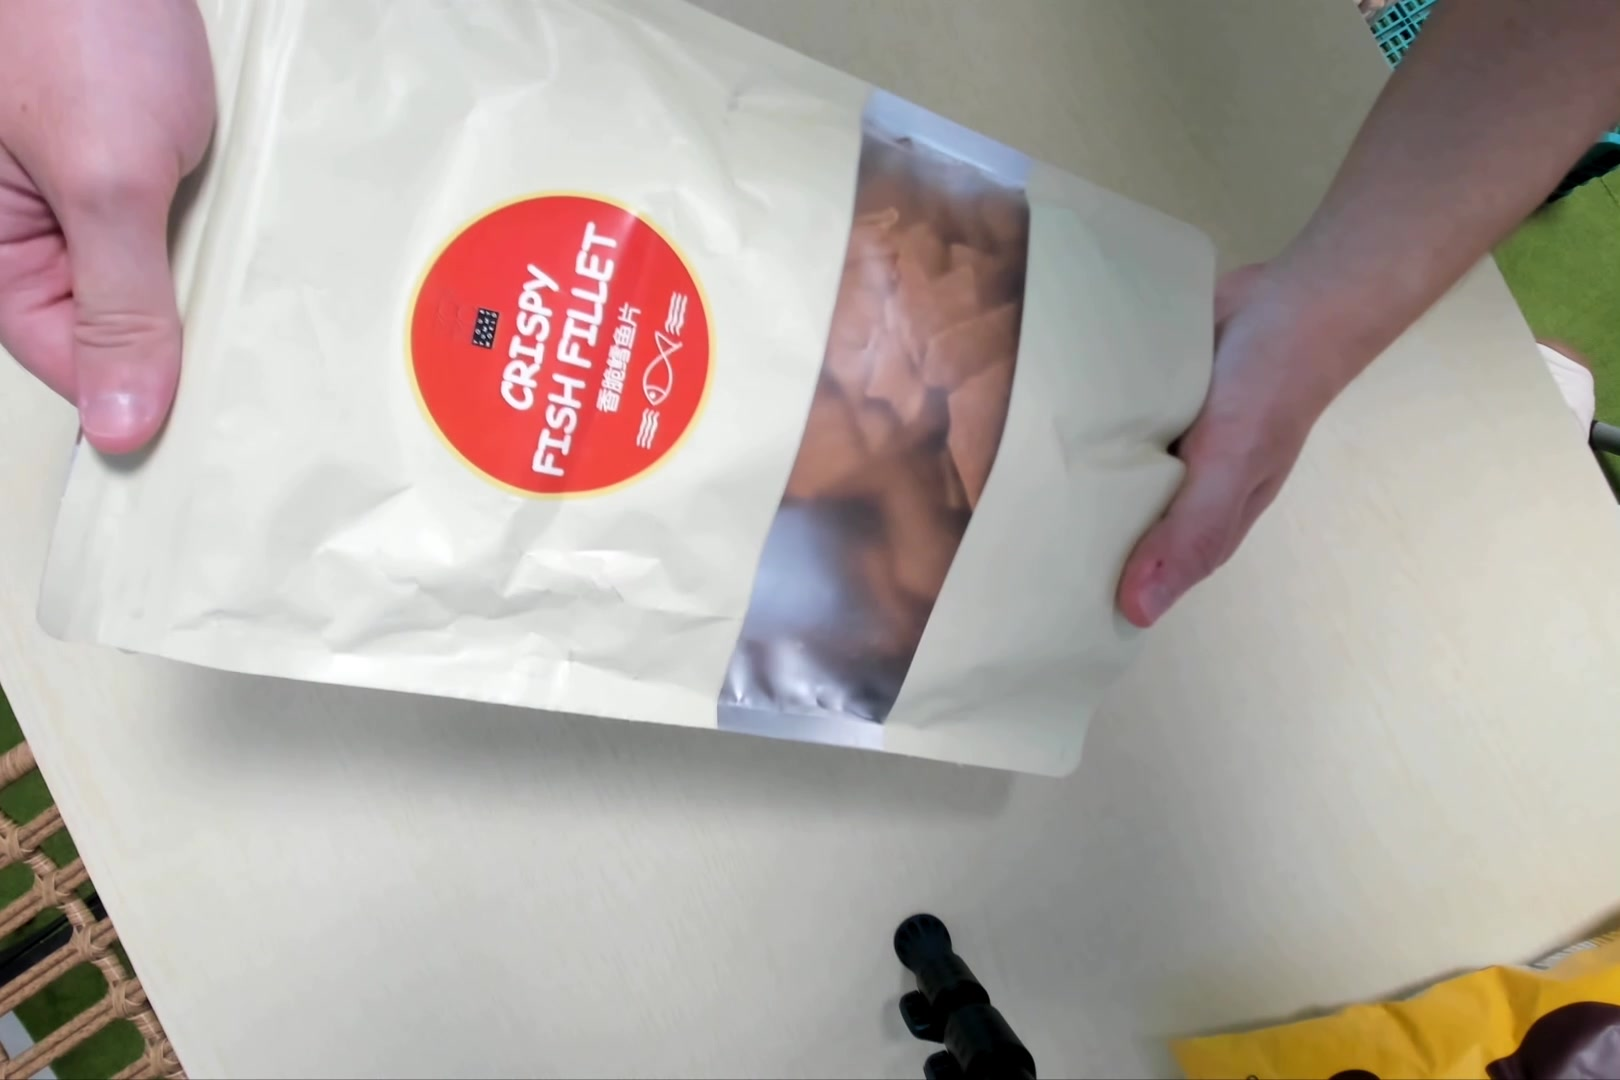PotatoChipsKeropok_100-199g_NonHalal_NonHealthy: (43, 1, 1220, 790)
